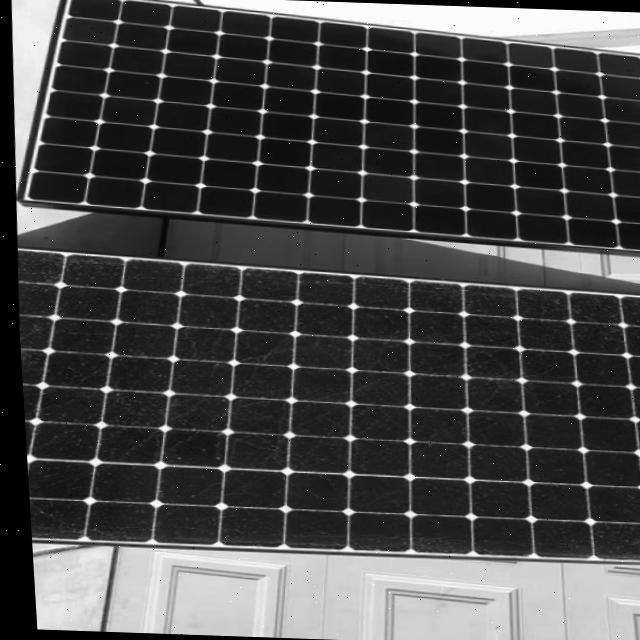Normal Solar Panel: (5, 0, 640, 253)
